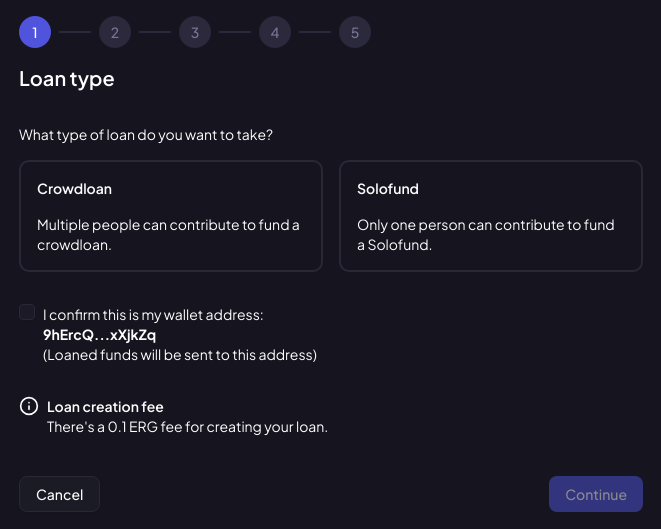
Test: LoanStepper › Step 1 - Loan Type Selection › should proceed to step 2 when Continue clicked
Step 1. Click the text "Solofund" → (388, 188), box [357,179,419,197]
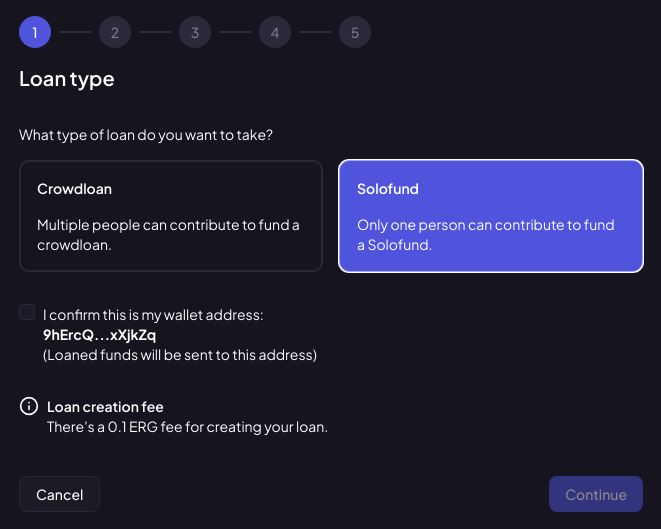
Step 2. Click the checkbox → (27, 312), box [19,304,35,320]
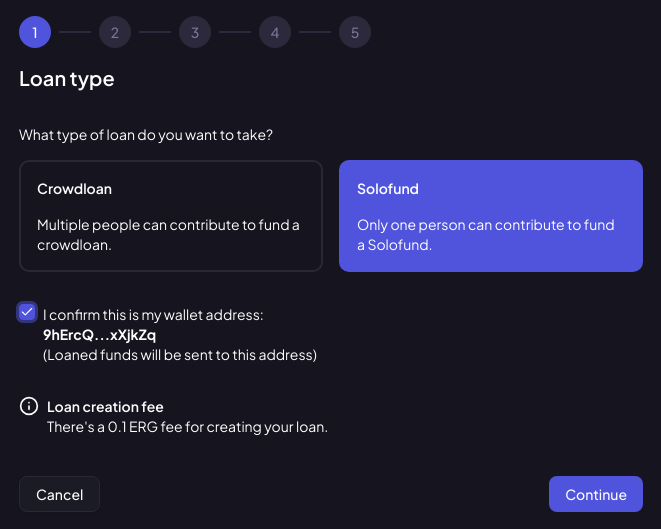
Step 3. Click the button "Continue" → (596, 494), box [549,476,643,512]
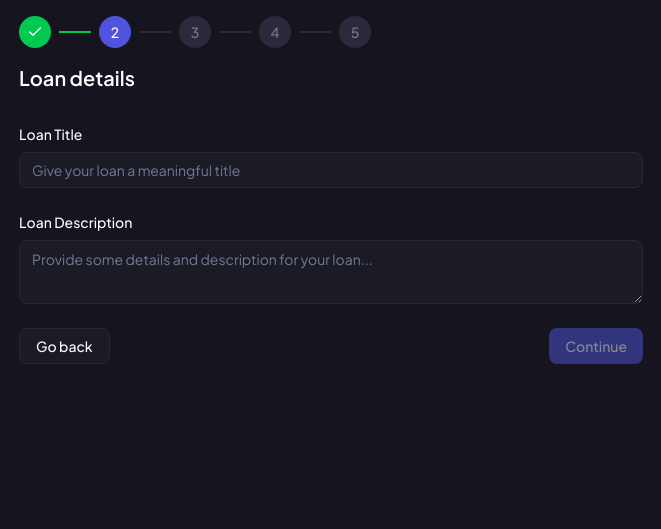
Expected: the heading "Loan details" is shown, [19,65,135,90]
